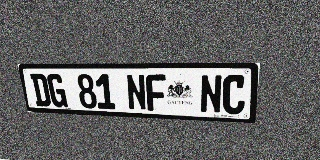1: (94, 74, 116, 109)
8: (76, 74, 98, 109)
C: (222, 75, 247, 115)
D: (30, 74, 52, 107)
F: (145, 74, 167, 111)
G: (46, 74, 68, 107)
N: (200, 75, 223, 114), (125, 74, 147, 111)
